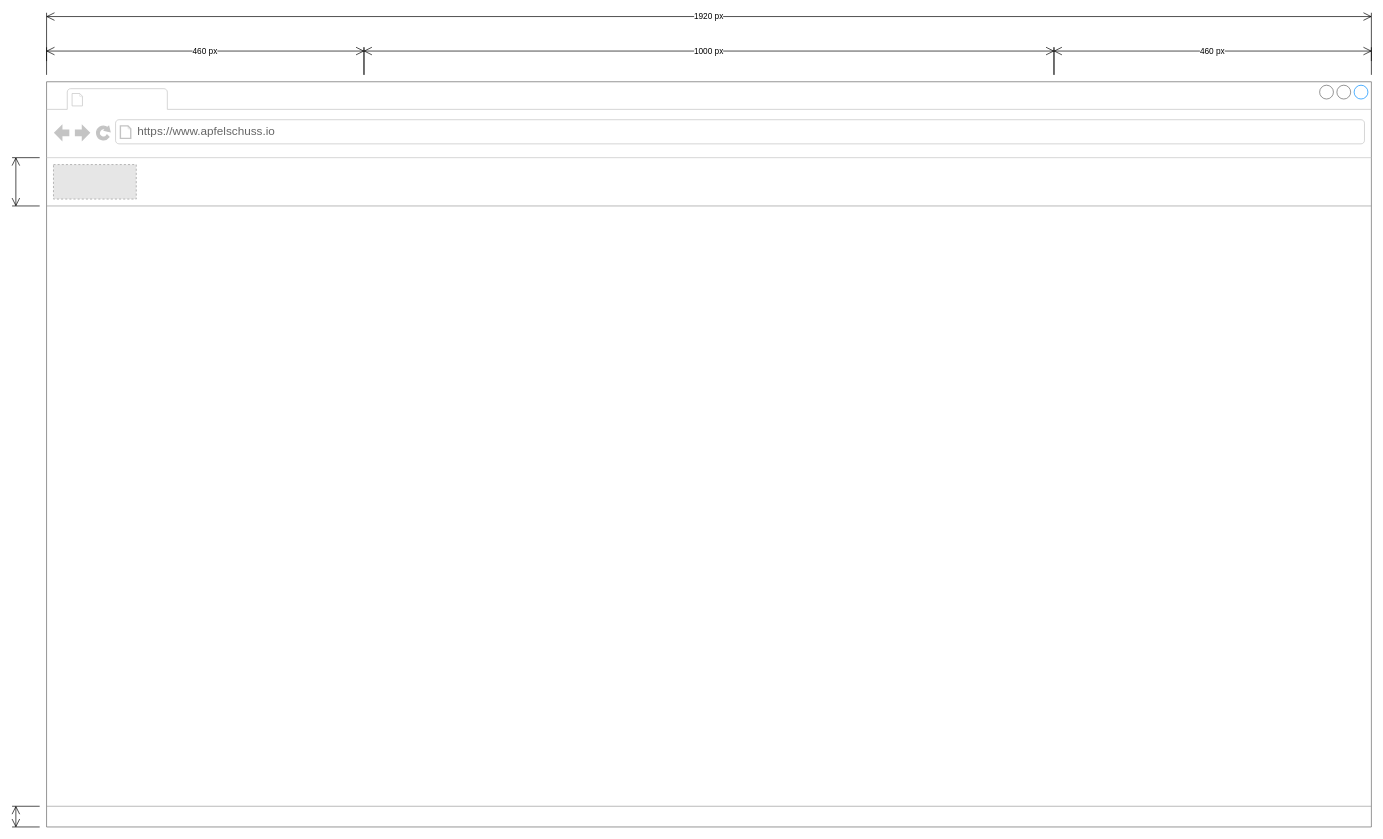
Image size: 1383x839. Some labels were removed from this diagram. Grey dashed boxes stand in for pictures. The shapes that lost their labels are listed below. From the top down, each one's box as (x1, y1, x2, y2) in pixels, then its label:
(87, 89, 164, 108): Home
(11, 157, 40, 206): 60 px
(11, 806, 40, 827): 30 px
